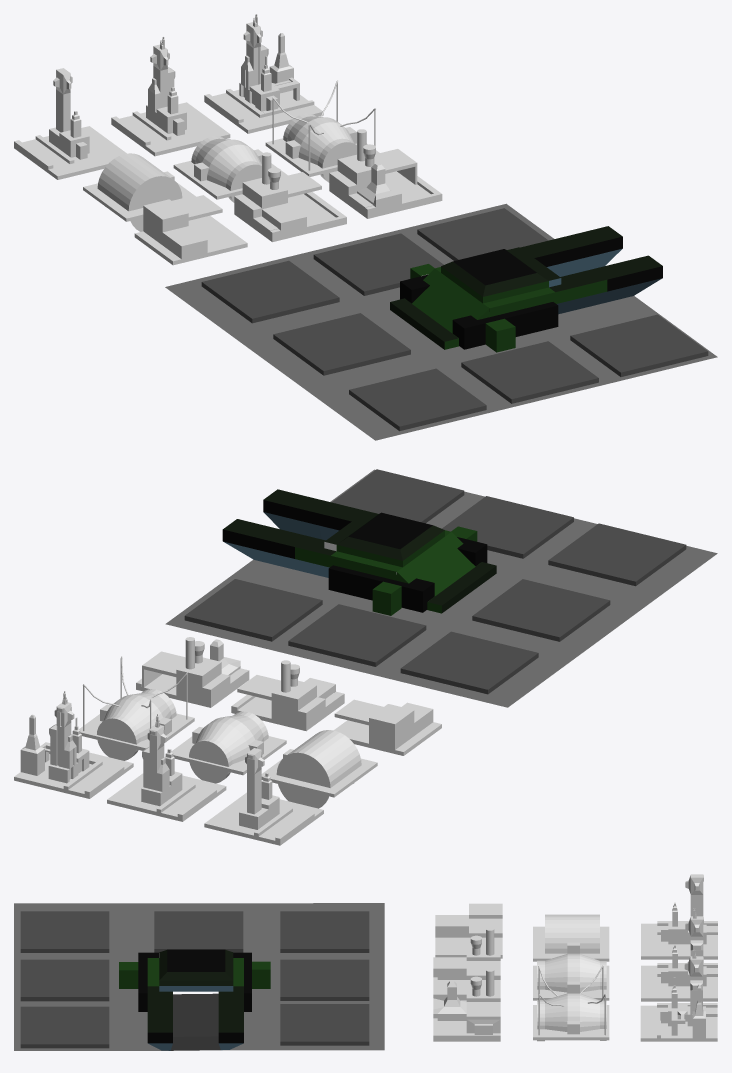
File: PlayerBase.fbx
The picture shows the model from 3 angles, top to bottom: view 1: azimuth 30°, elevation 25°; view 2: azimuth 150°, elevation 25°; view 3: azimuth 270°, elevation 25°; orthographic projection. The views are drawn at different scales.
Parts seen in each view (by area): view 1: HQ, Plane, V3, V2, Plane.002, V1, Plane.001, B3, B1, B2; view 2: HQ, Plane, B1, Plane.002, B3, V3, Plane.001, V2, B2, V1; view 3: HQ, Plane, V3, B3, B1, Plane.001, Plane.002, B2, V2, V1.
Part boxes in pixels (bbox=[...]): HQ: bbox=[165, 203, 717, 440]; Plane: bbox=[204, 14, 323, 133]; V3: bbox=[329, 129, 442, 218]; V2: bbox=[234, 152, 346, 242]; Plane.002: bbox=[111, 36, 230, 156]; V1: bbox=[134, 195, 247, 265]; Plane.001: bbox=[14, 68, 126, 179]; B3: bbox=[265, 80, 379, 182]; B1: bbox=[83, 153, 195, 231]; B2: bbox=[173, 136, 287, 202]; HQ: bbox=[165, 469, 717, 707]; Plane: bbox=[14, 691, 133, 798]; B1: bbox=[261, 730, 377, 808]; Plane.002: bbox=[107, 714, 226, 821]; B3: bbox=[79, 656, 194, 760]; V3: bbox=[136, 637, 249, 707]; Plane.001: bbox=[204, 748, 323, 845]; V2: bbox=[231, 660, 344, 731]; B2: bbox=[171, 711, 286, 783]; V1: bbox=[334, 699, 441, 755]; HQ: bbox=[14, 903, 384, 1050]; Plane: bbox=[640, 948, 717, 1041]; V3: bbox=[433, 968, 500, 1041]; B3: bbox=[533, 965, 609, 1041]; B1: bbox=[533, 914, 609, 961]; Plane.001: bbox=[641, 874, 717, 959]; Plane.002: bbox=[641, 908, 717, 1001]; B2: bbox=[533, 953, 609, 1000]; V2: bbox=[433, 927, 500, 1000]; V1: bbox=[435, 903, 502, 958].
Bounding box in the file's own units: 14096 × 4142 × 26765.
